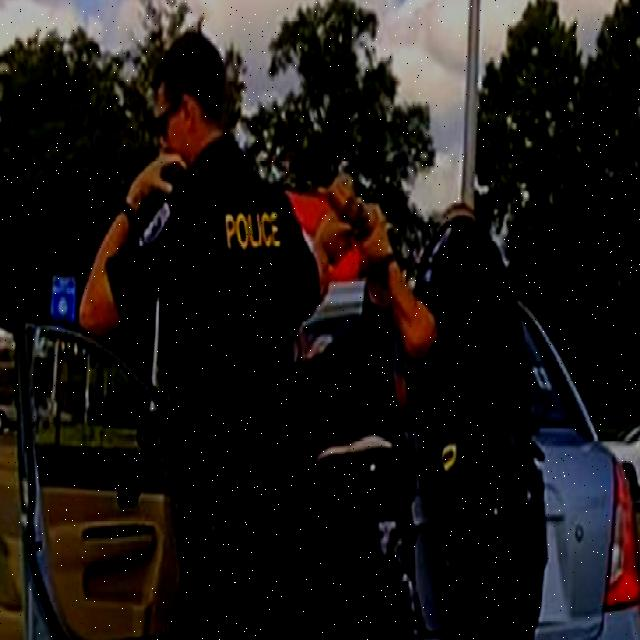police: (92, 35, 324, 640), (380, 167, 553, 640)
